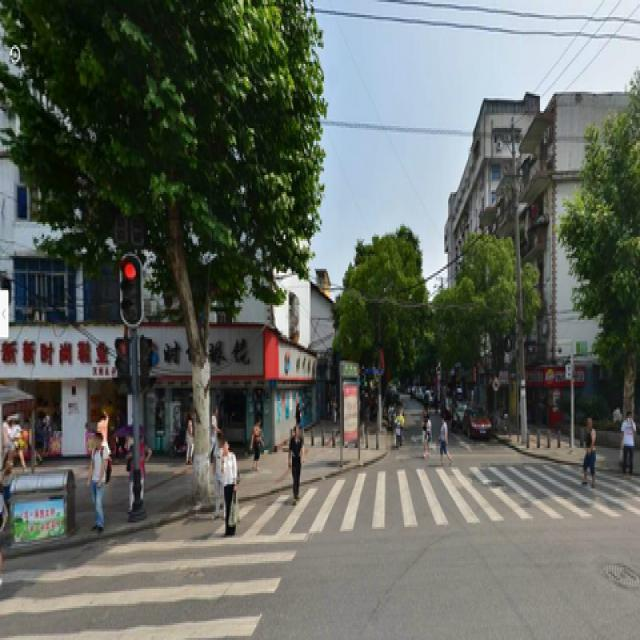meta: (65, 6, 316, 523)
